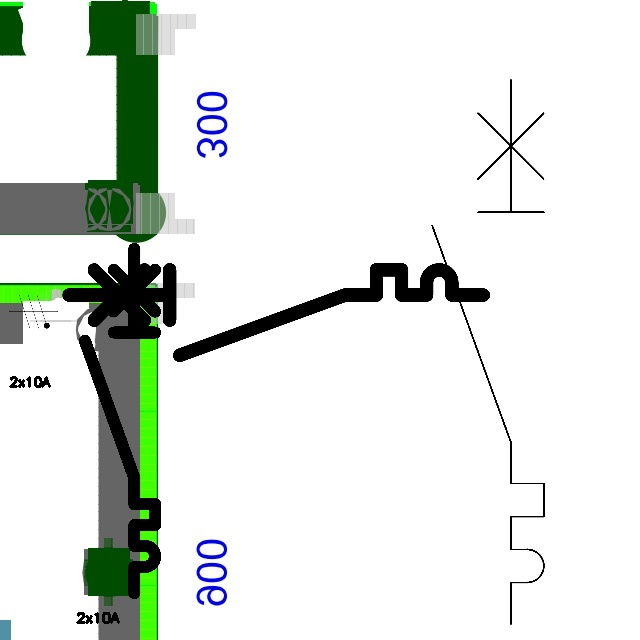interruptor_termomagnetico: (418, 66, 558, 638), (58, 259, 494, 365), (76, 240, 164, 602)
